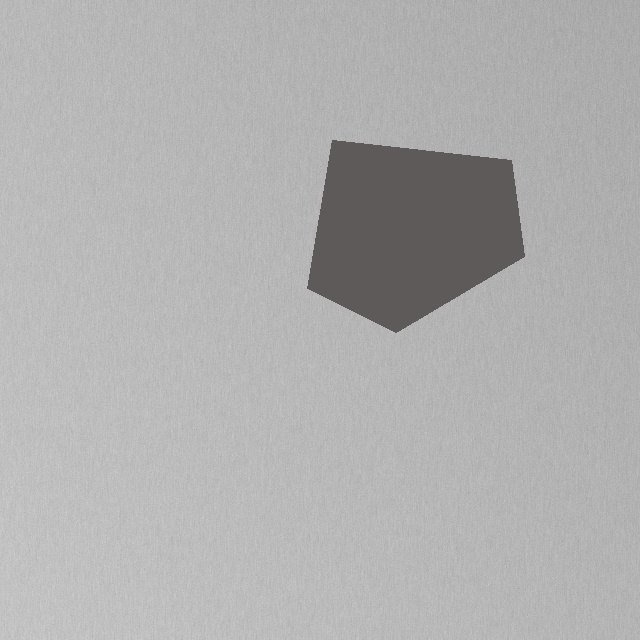crescent gap: (140, 110, 550, 480)
